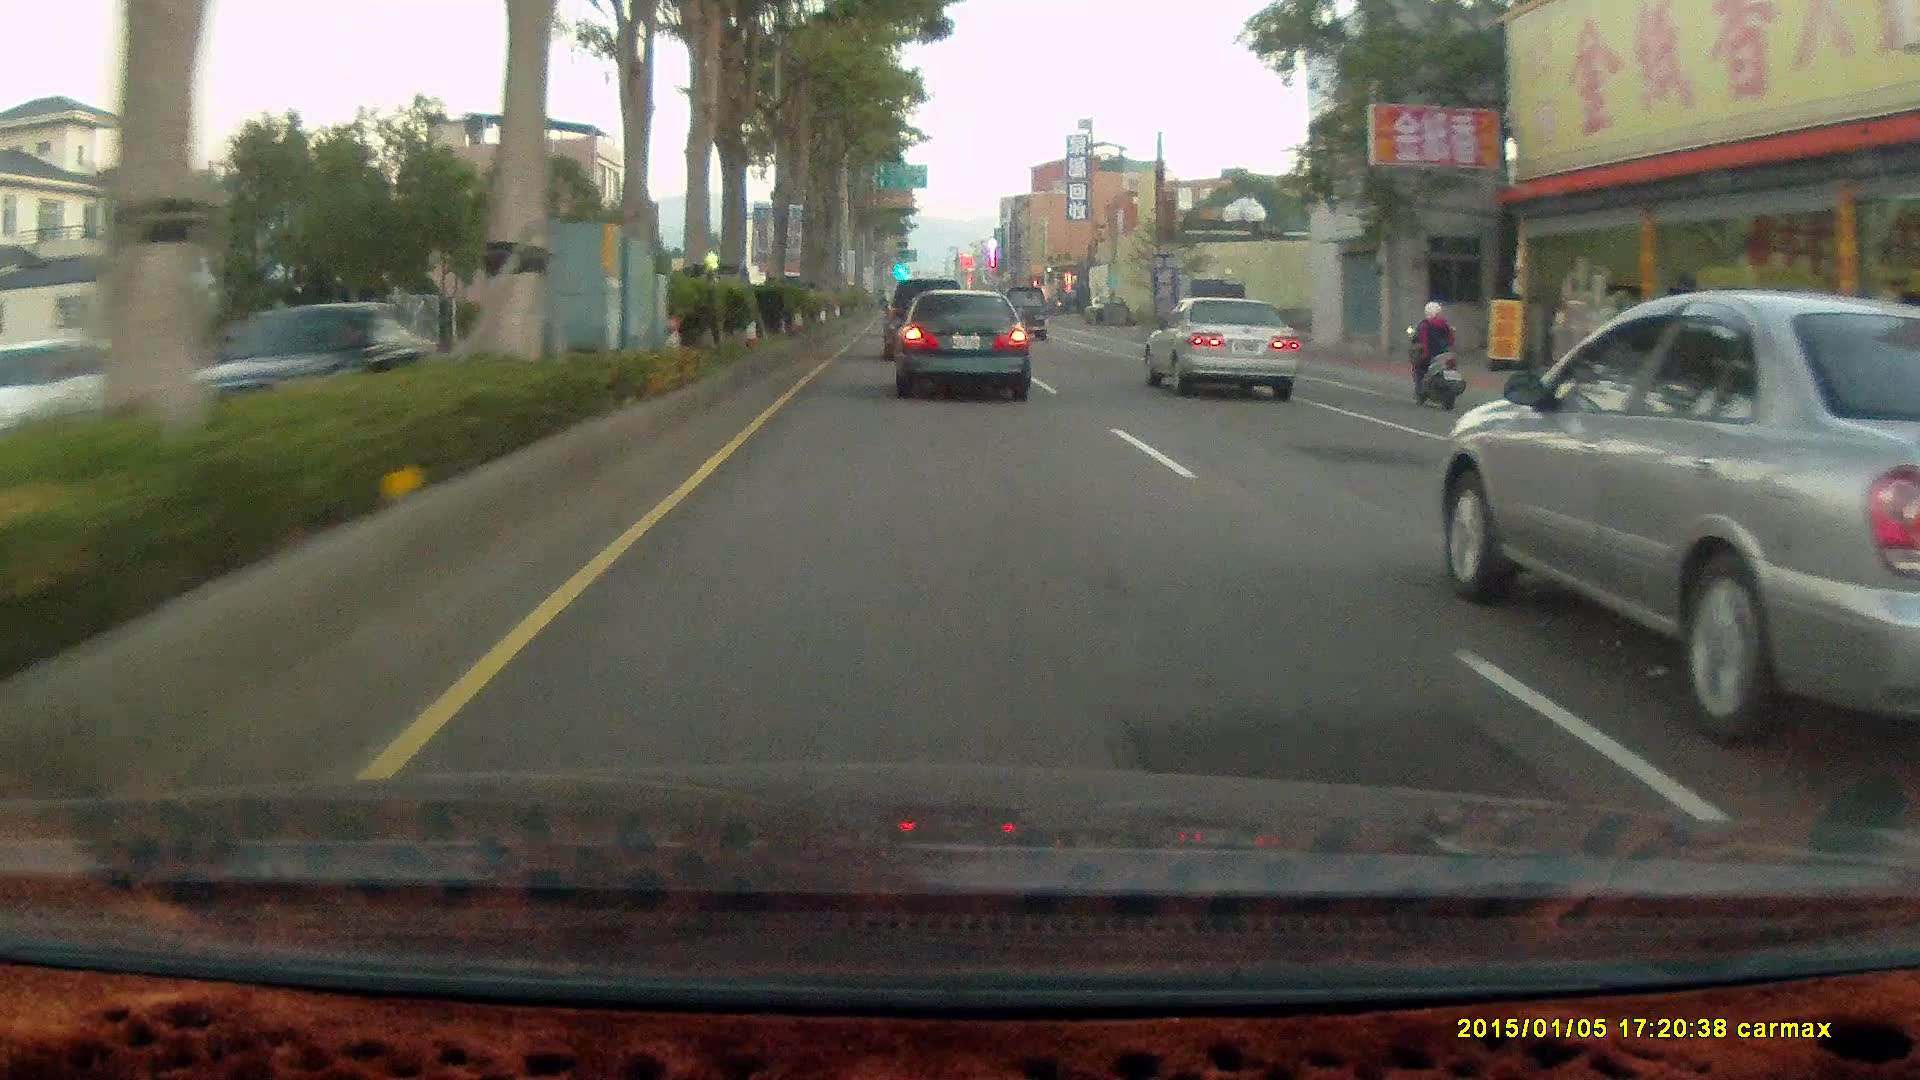rider: (1397, 292, 1474, 420), (1402, 295, 1467, 410)
vehicle: (1433, 288, 1920, 748), (182, 300, 442, 425), (0, 332, 151, 457), (1, 332, 176, 441), (1142, 295, 1302, 407), (1142, 293, 1299, 400), (892, 289, 1033, 407), (892, 286, 1032, 398), (884, 277, 973, 361), (881, 278, 963, 356), (1172, 276, 1247, 345), (999, 285, 1046, 342)
